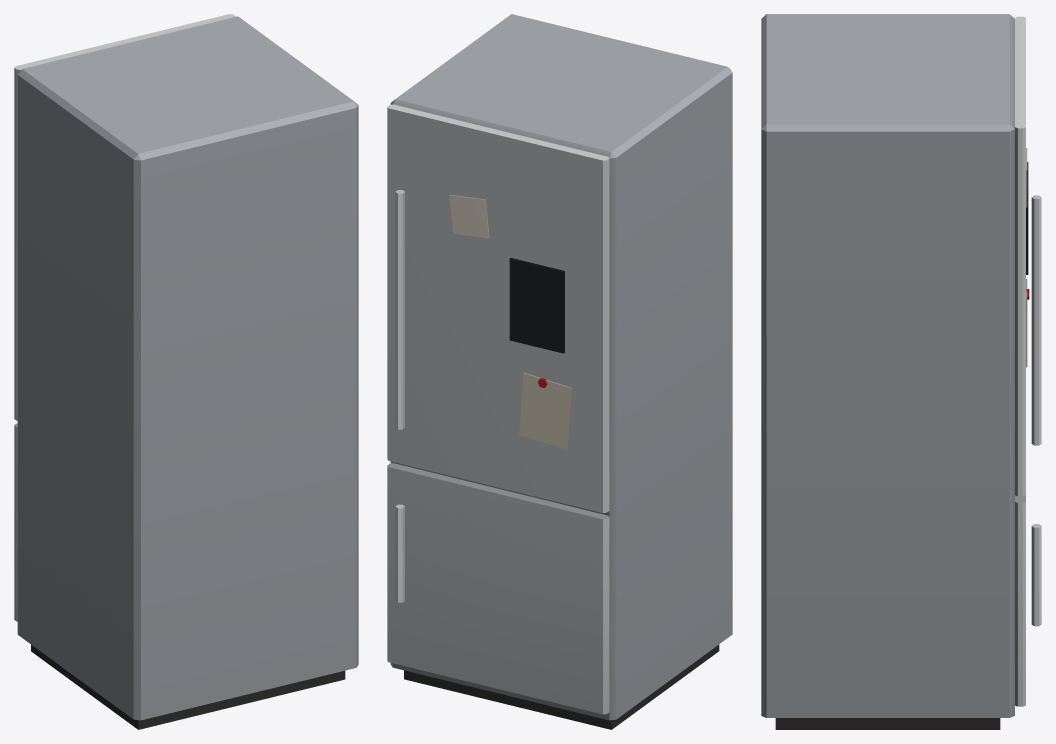
Rendered from fridge_01.glb.
The picture shows the model from 3 angles, left to right: view 1: azimuth 30°, elevation 25°; view 2: azimuth 150°, elevation 25°; view 3: azimuth 270°, elevation 25°; orthographic projection. The views are drawn at different scales.
Parts seen in each view (by area): view 1: fridge_01_mesh; view 2: fridge_01_mesh; view 3: fridge_01_mesh.
Boxes of the visible parts, left/top/right/bottom form: fridge_01_mesh: left=14, top=14, right=358, bottom=729; fridge_01_mesh: left=387, top=14, right=732, bottom=729; fridge_01_mesh: left=761, top=14, right=1041, bottom=729.
Bounding box in the file's own units: 0.75 × 1.85 × 0.774.
Materials: 1 (1 with a texture image).
